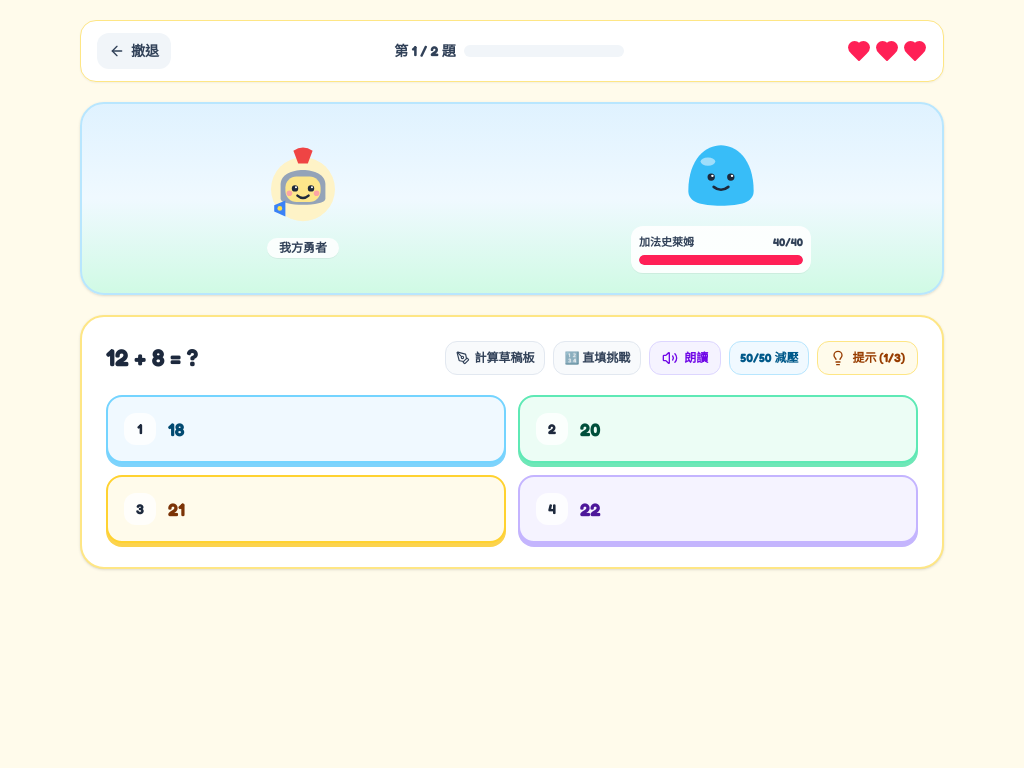
BattleArena › completes a stage battle and reports battleMode and outcomes
Step 1. Click the button "2 20" → (552, 428), box [518,394,918,462]
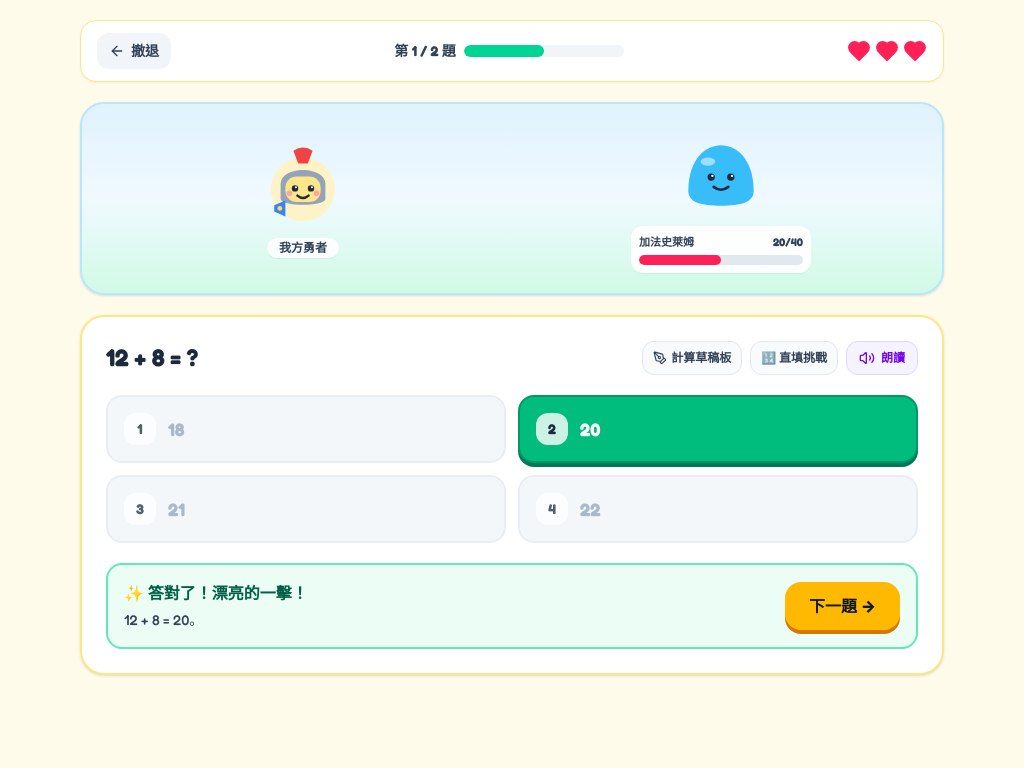
Result: the text "12 + 8 = 20。" is shown at [124,610,203,628]
Step 2. Click the button "下一題 →" → (842, 606), box [785,582,900,630]
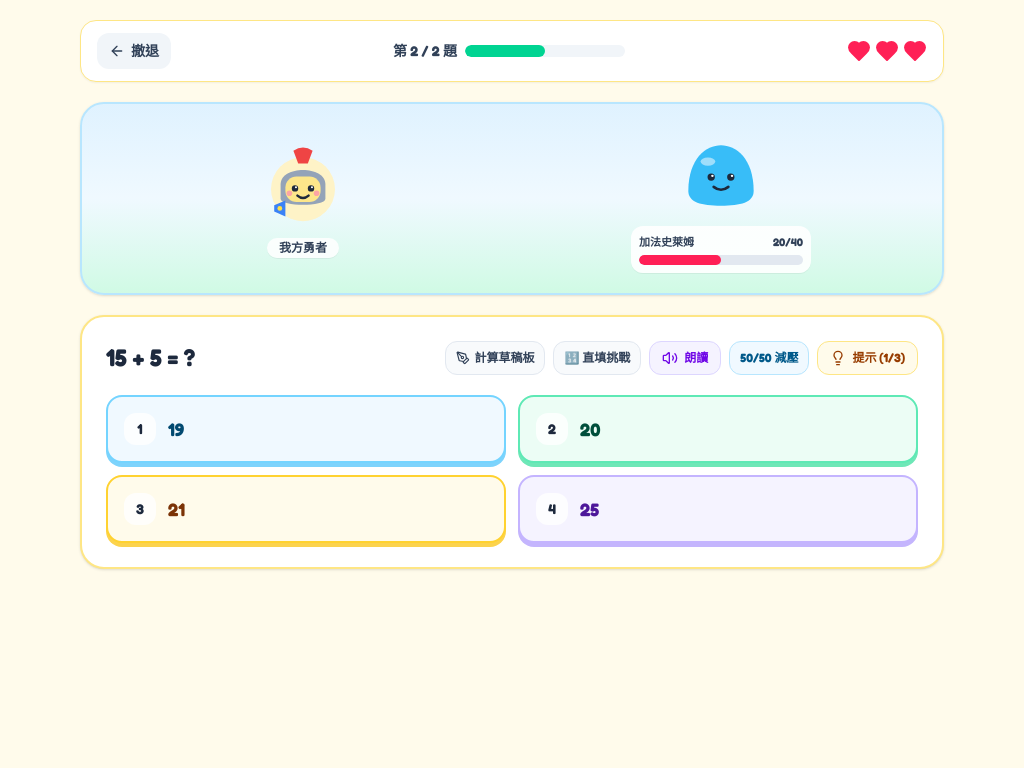
// Answer Q2 correctly
Step 3. Click the button "2 20" → (552, 428), box [518,394,918,462]
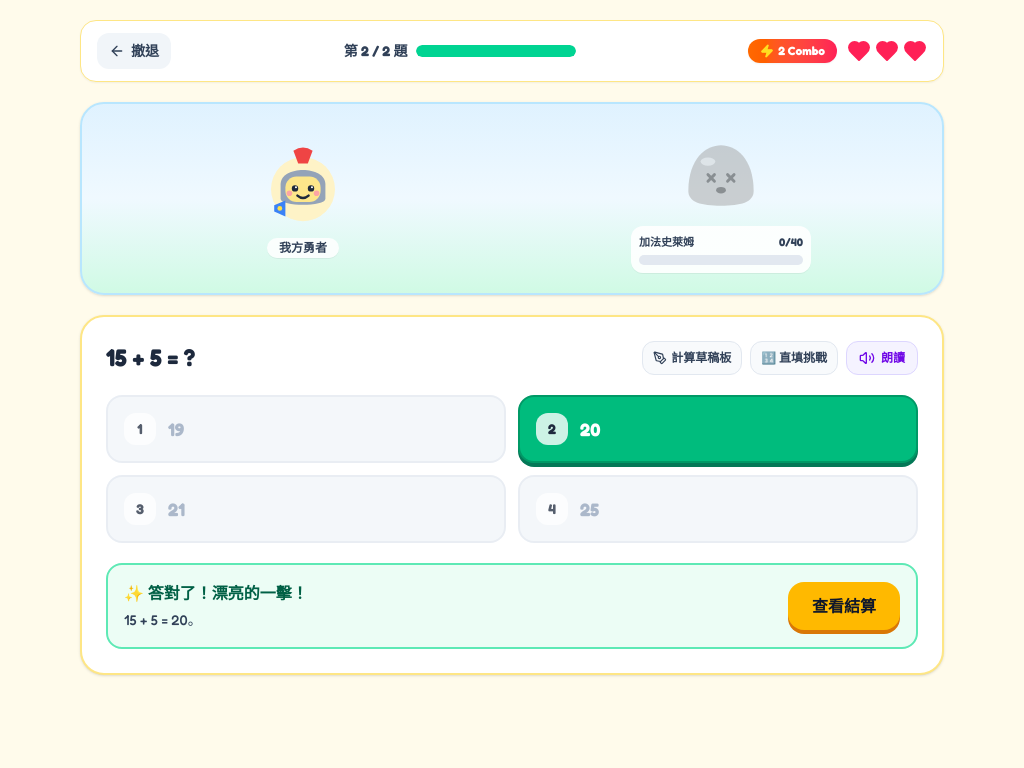
Step 4. Click the button "查看結算" → (844, 606), box [788,582,900,630]
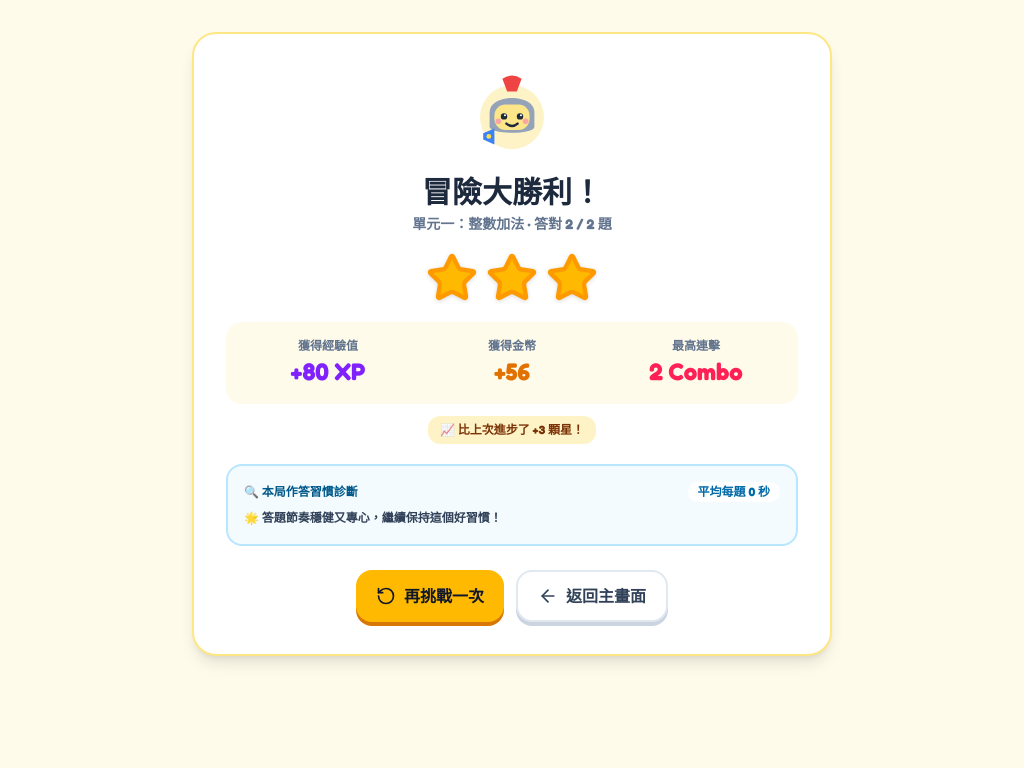
Result: the heading "冒險大勝利！" is shown at [422,174,602,210]
